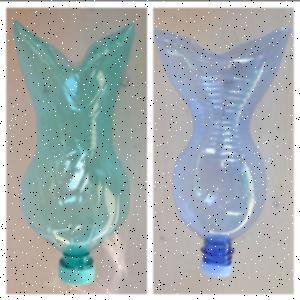Plastic-bottle: (21, 20, 132, 288), (170, 25, 269, 277)
